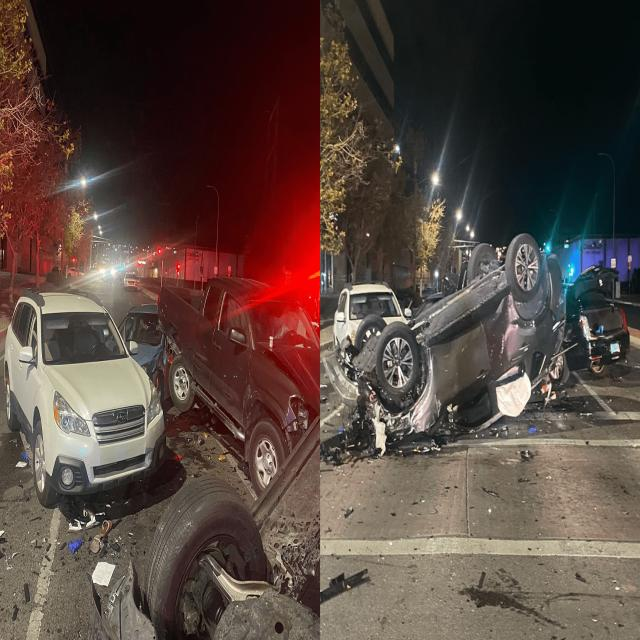Accident: (133, 261, 317, 638), (332, 233, 564, 458), (2, 273, 176, 512), (544, 296, 634, 387)
